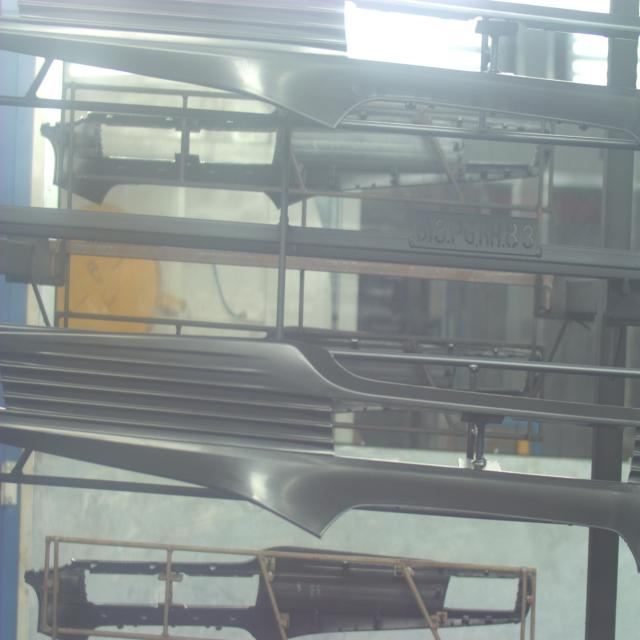Non_primered: (0, 334, 640, 544), (1, 2, 640, 125)
